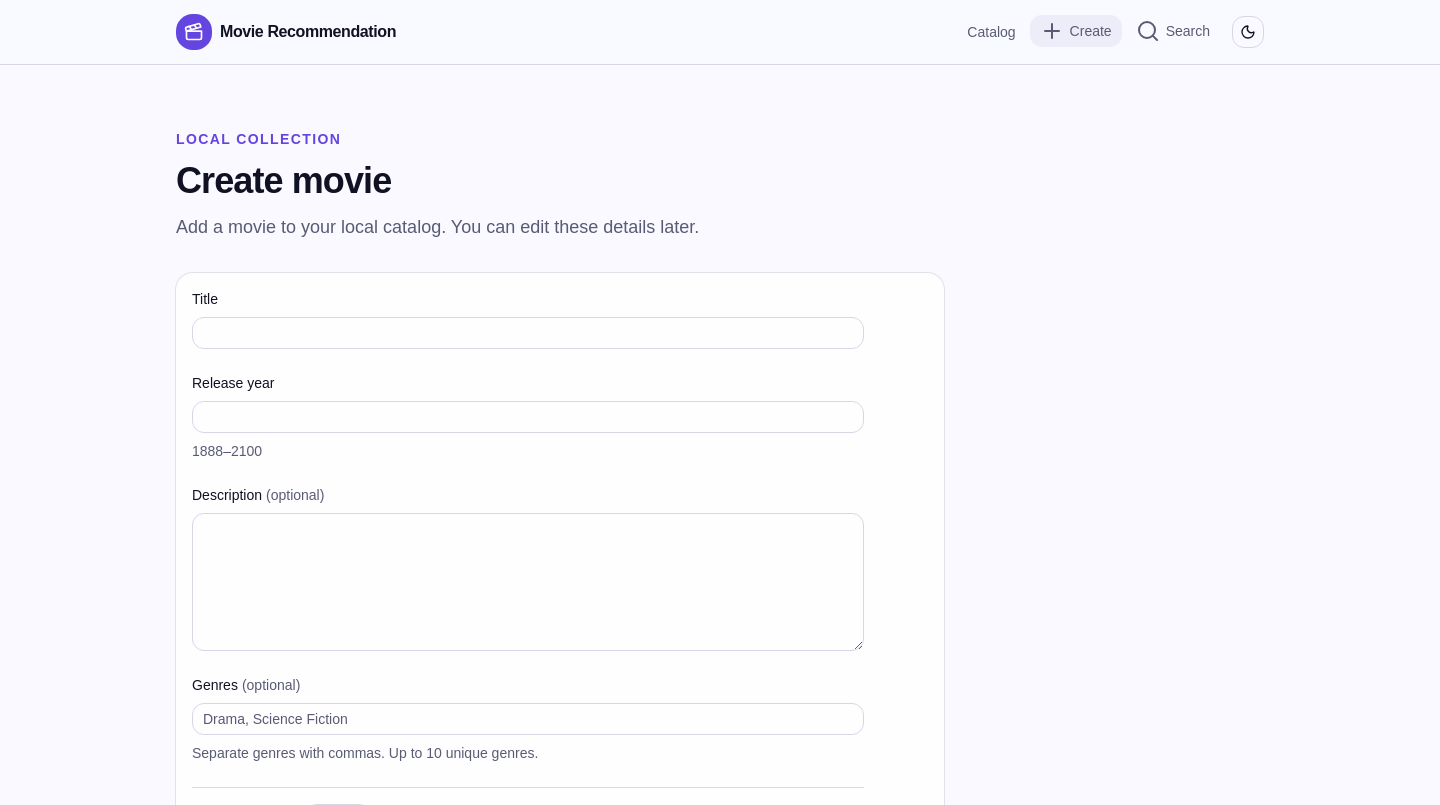
Test: create movie page › keeps entered values and shows field and toast errors after 422
In the field labelled "Title": [528, 333] box [192,317,864,349], type "Alien"
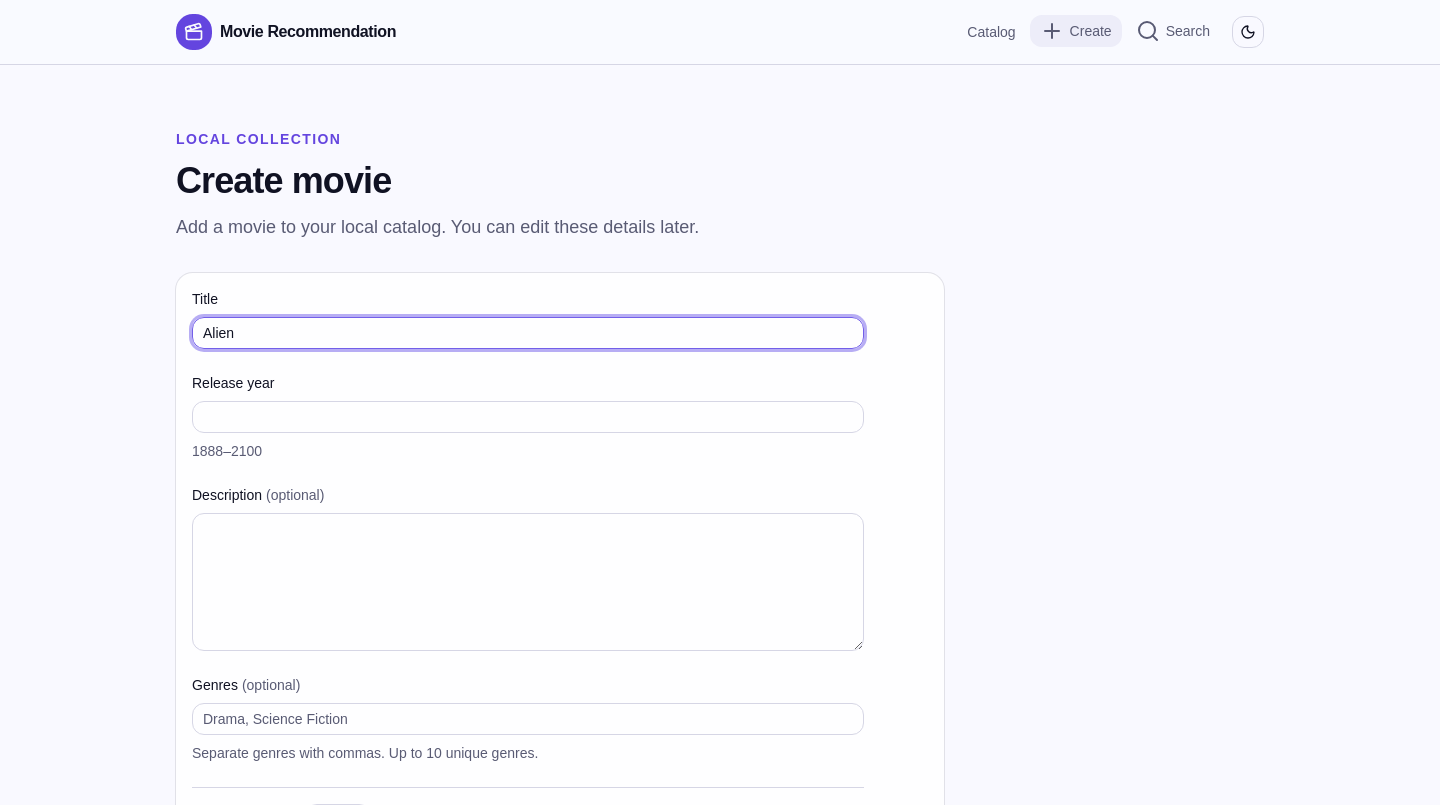
In the number field labelled "Release year": [528, 417] box [192,401,864,433], type "1979"
(page scrolled)
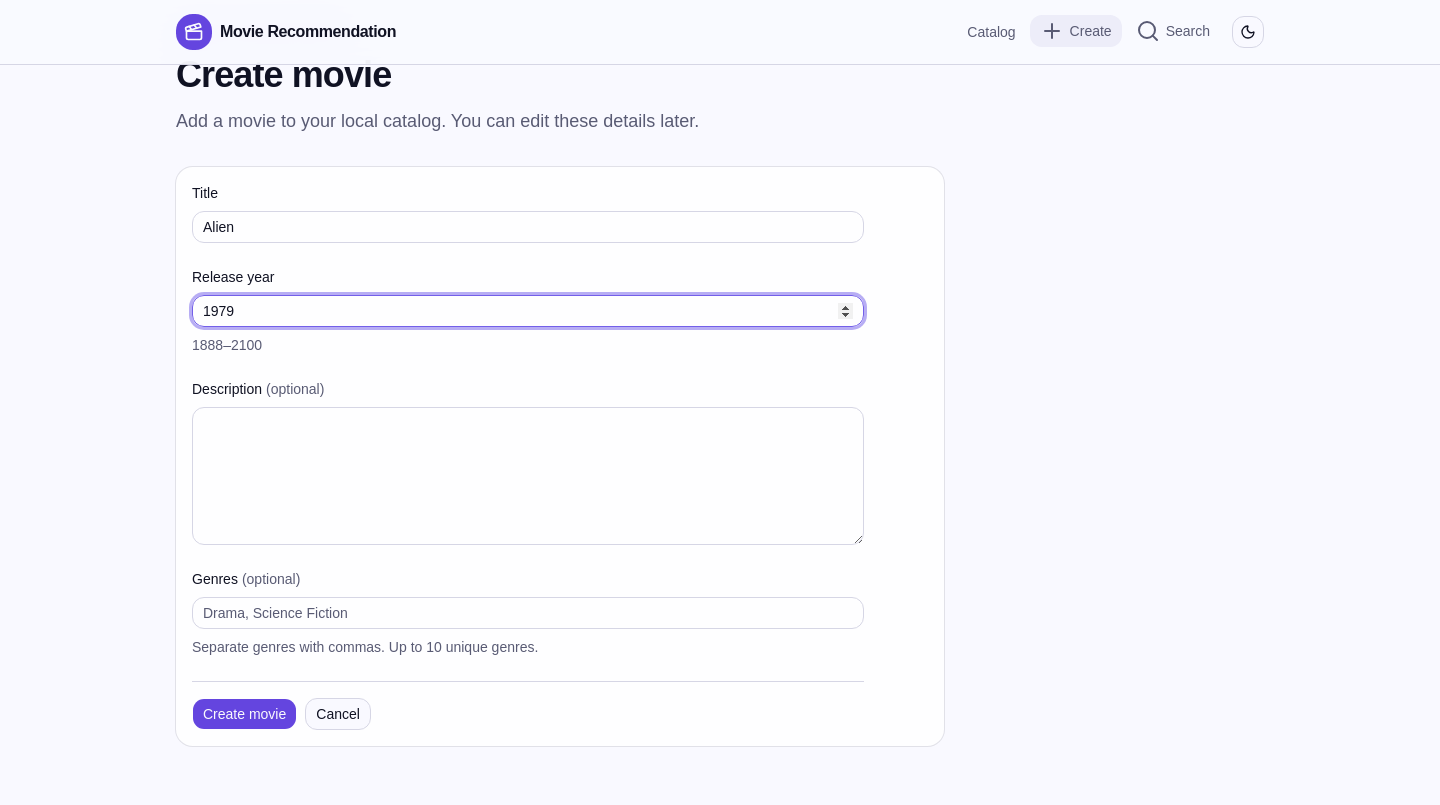
Click the button "Create movie": [245, 714] box [192,698,297,730]
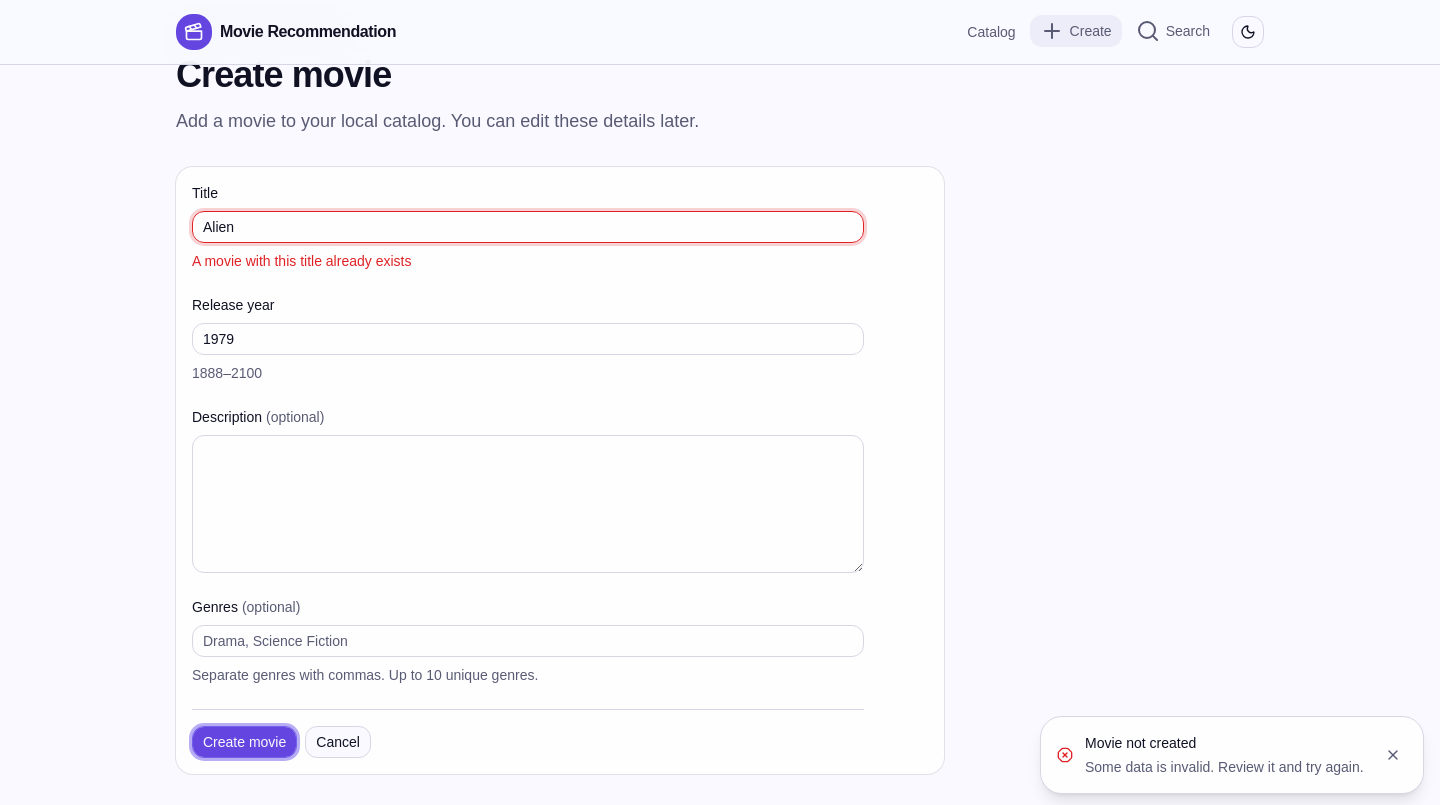
expect the heading "Movie not created" is shown: met, box [1085,735,1196,751]
